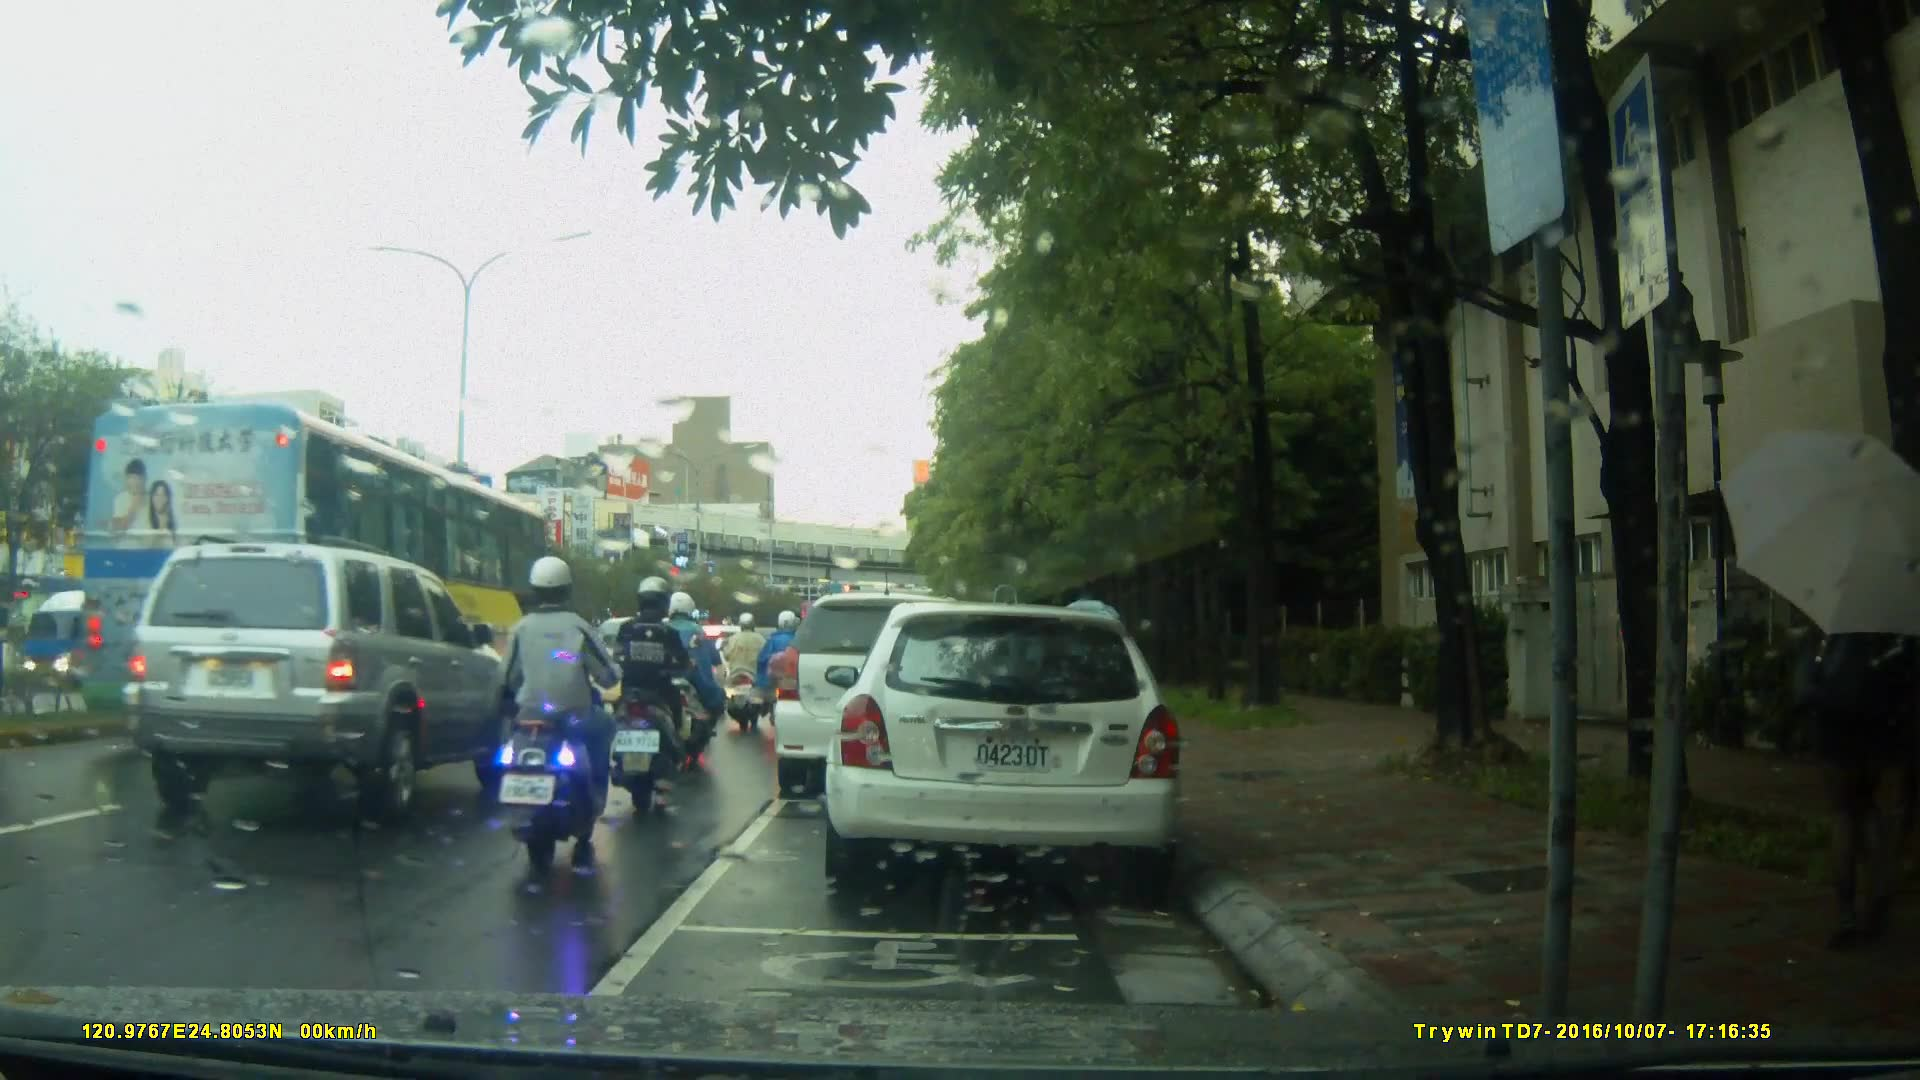pedestrian: (1769, 512, 1909, 944)
rider: (489, 553, 621, 869), (608, 573, 695, 813), (653, 588, 731, 761), (721, 610, 779, 732), (759, 612, 815, 728)
vehicle: (69, 400, 559, 753), (117, 535, 520, 823), (835, 594, 1194, 898), (776, 590, 1026, 784)
